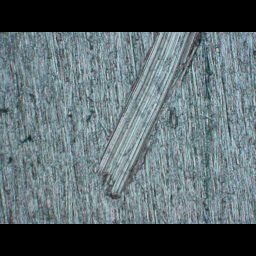d: (94, 32, 206, 202)
